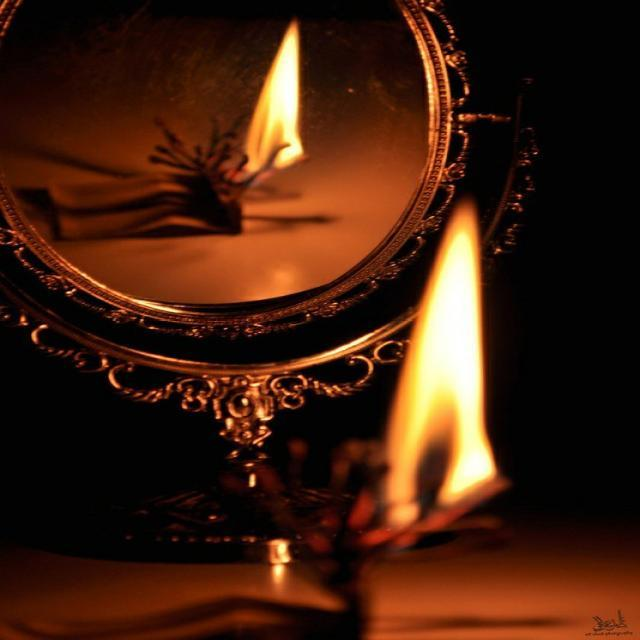Fire: (314, 197, 584, 548), (208, 2, 382, 171)
